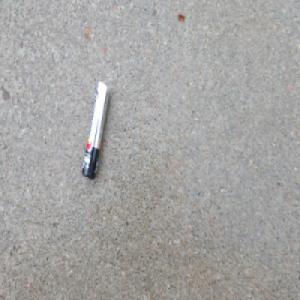Battery: (80, 79, 110, 180)
